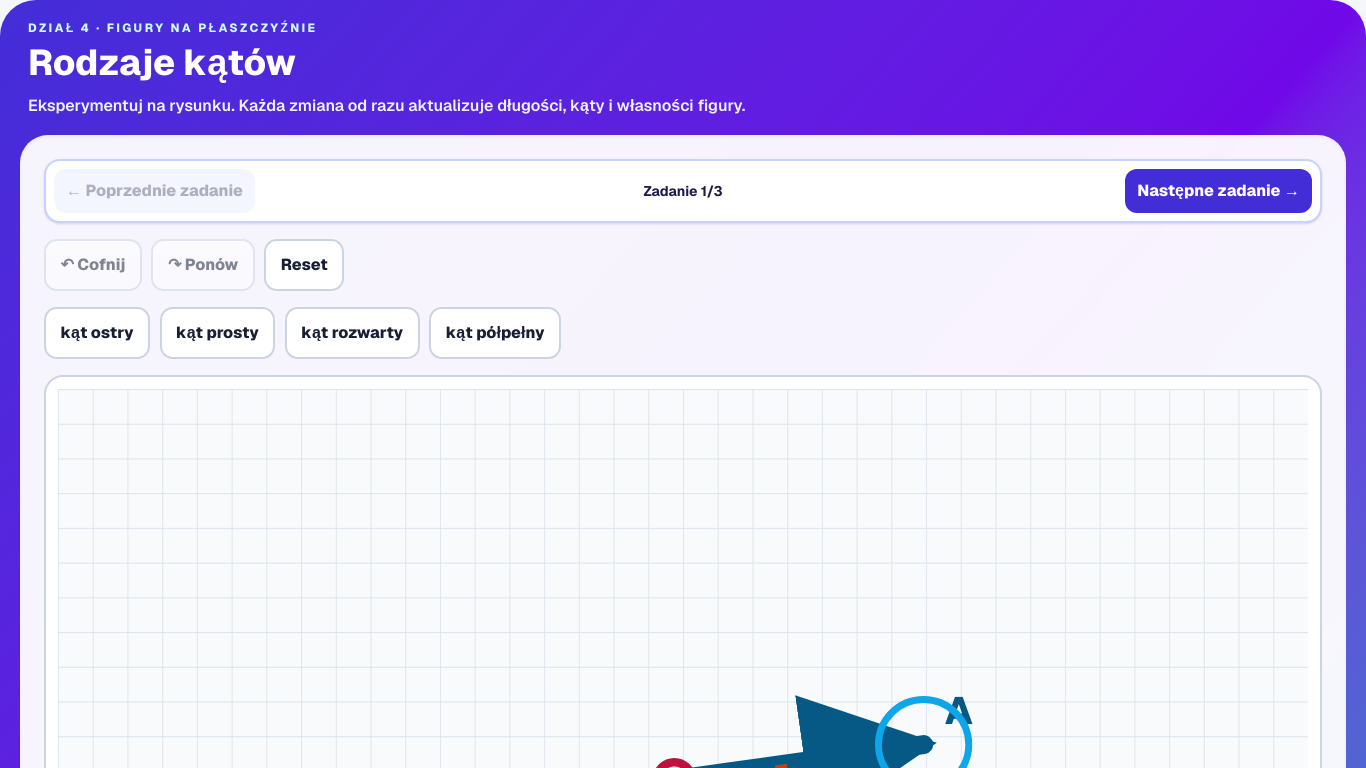
Test case: WP-S4-02A — Kąty i ich rodzaje › ujawnia miarę i nazwę dopiero po przewidywaniu
Click the button "kąt ostry" at point(97, 333), box x1=44 y1=307 x2=150 y2=359
(page scrolled)
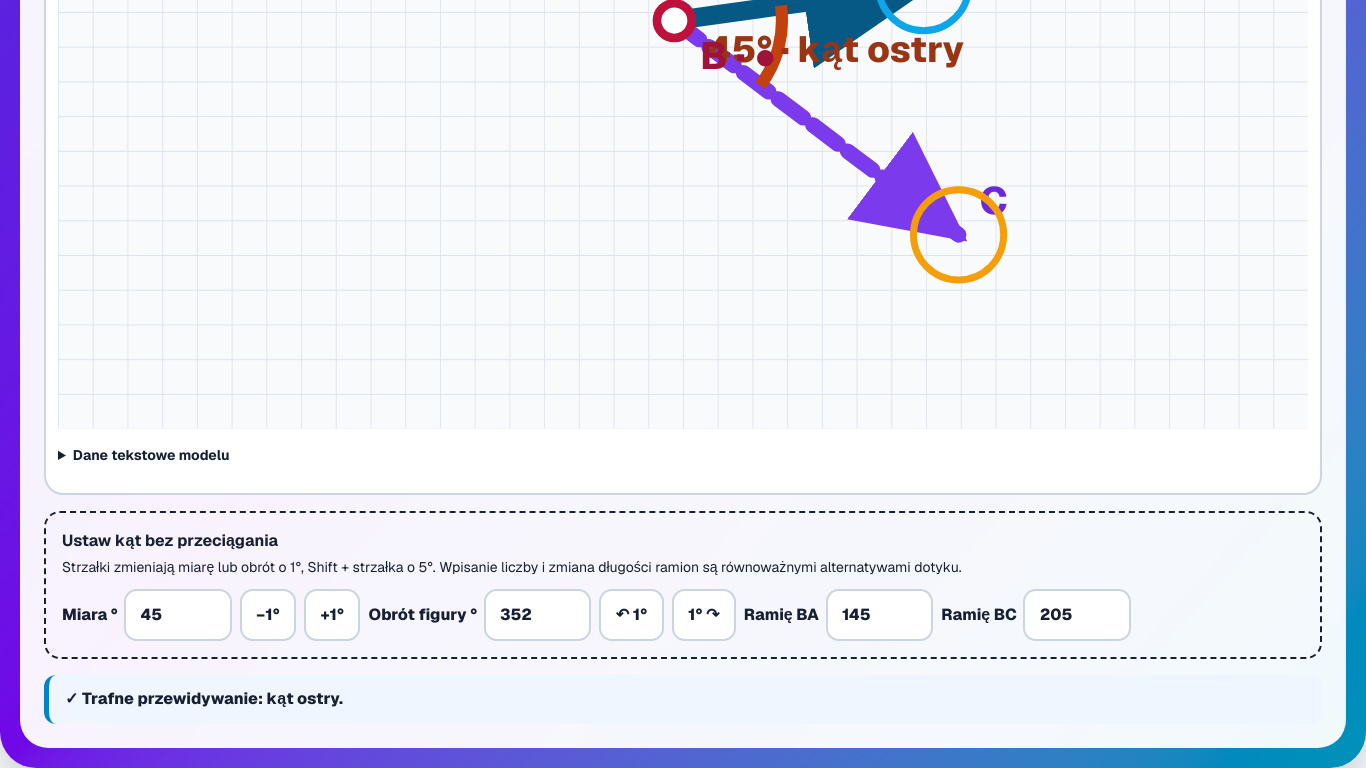
Now the message shows "Trafne przewidywanie", box x1=65 y1=688 x2=343 y2=709
